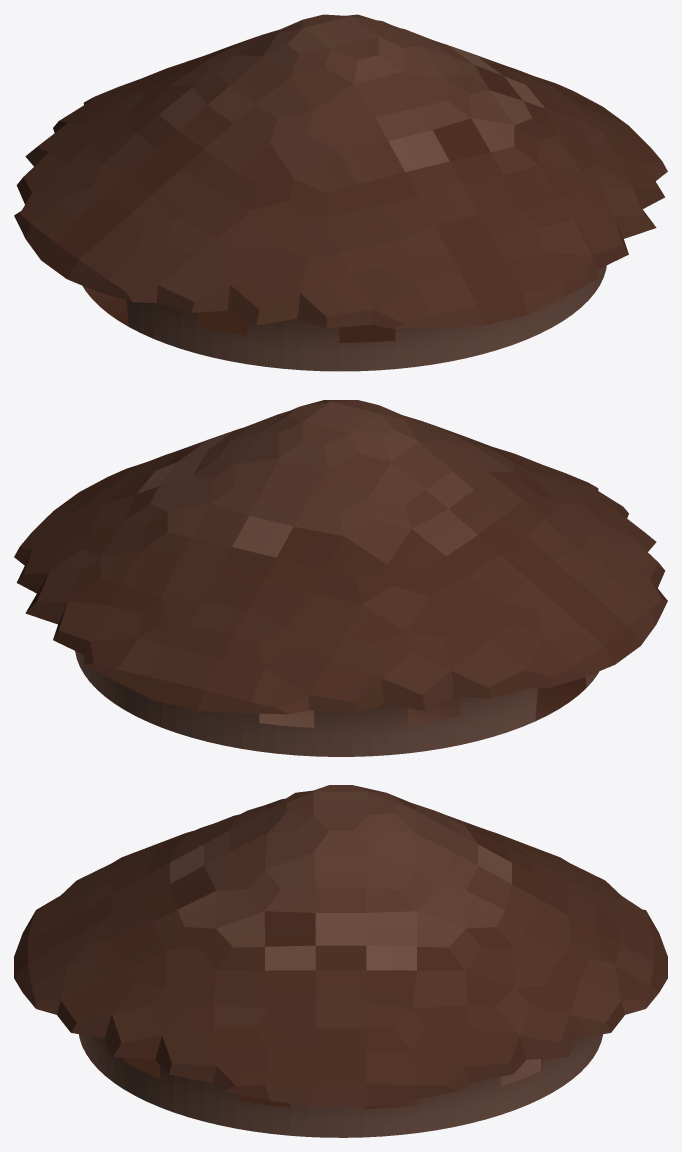
File: ocas principal.fbx
The picture shows the model from 3 angles, top to bottom: view 1: azimuth 30°, elevation 25°; view 2: azimuth 150°, elevation 25°; view 3: azimuth 270°, elevation 25°; orthographic projection.
Visible parts, largest first — view 1: Cone.001, Cylinder.001; view 2: Cone.001, Cylinder.001; view 3: Cone.001, Cylinder.001.
Part boxes in pixels (x1,y1,x2,y2): Cone.001: (14,14,667,328); Cylinder.001: (83,265,606,371); Cone.001: (14,400,667,714); Cylinder.001: (75,651,599,756); Cone.001: (14,785,667,1106); Cylinder.001: (79,1034,602,1137).
Bounding box in the file's own units: 1436 × 542 × 1436.
2 materials, 2 textured.
